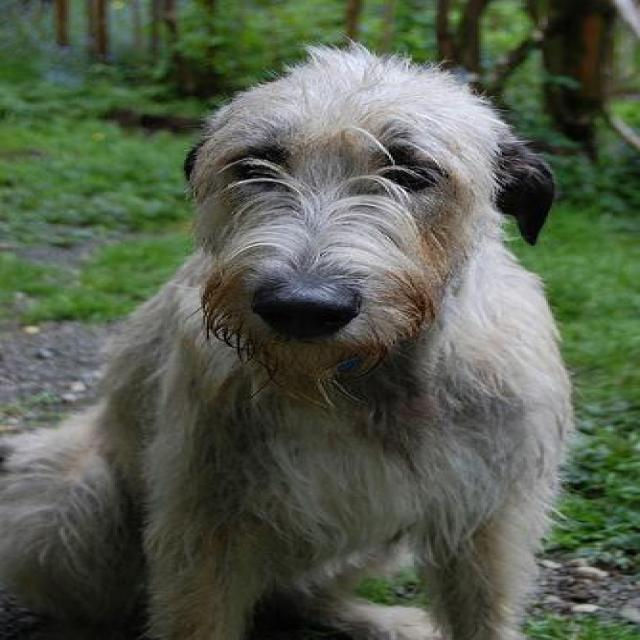irish_wolfhound: (0, 46, 569, 638)
